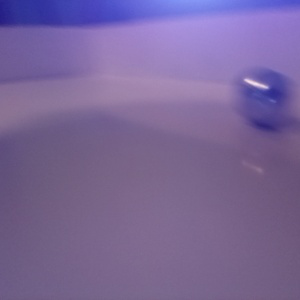alive_ball: (235, 69, 292, 126)
